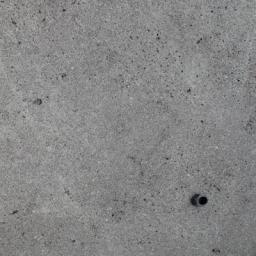FOD: (188, 193, 215, 211)
